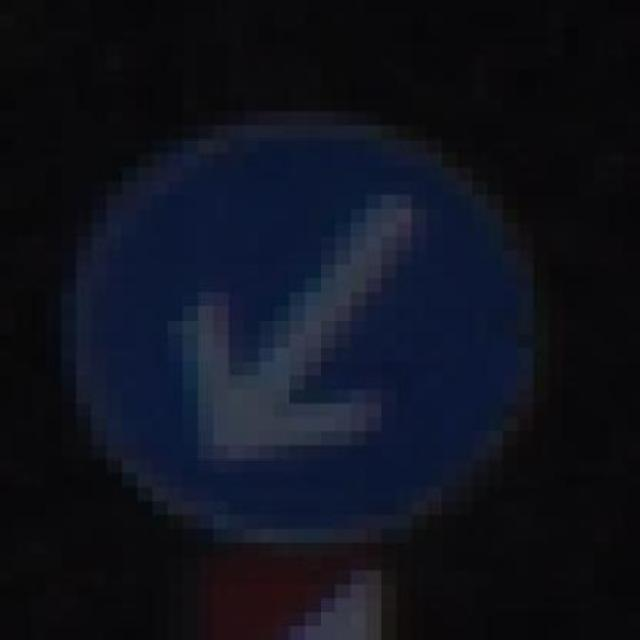Keep-Left: (61, 97, 548, 557)
